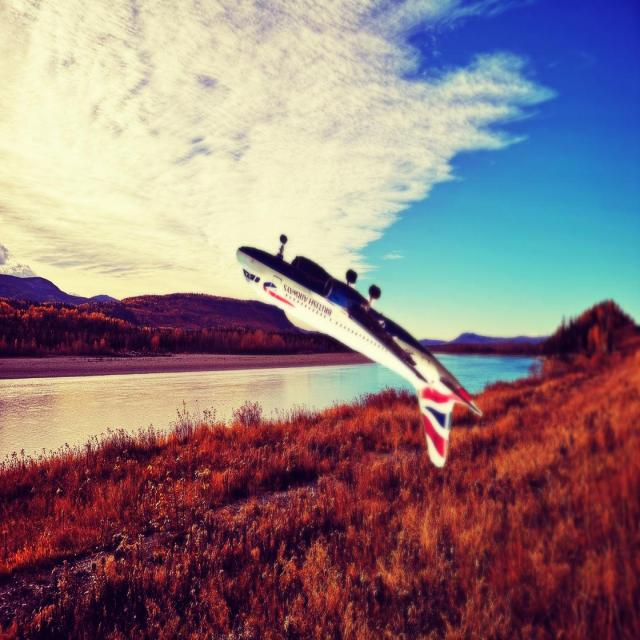airplane: (236, 233, 483, 469)
